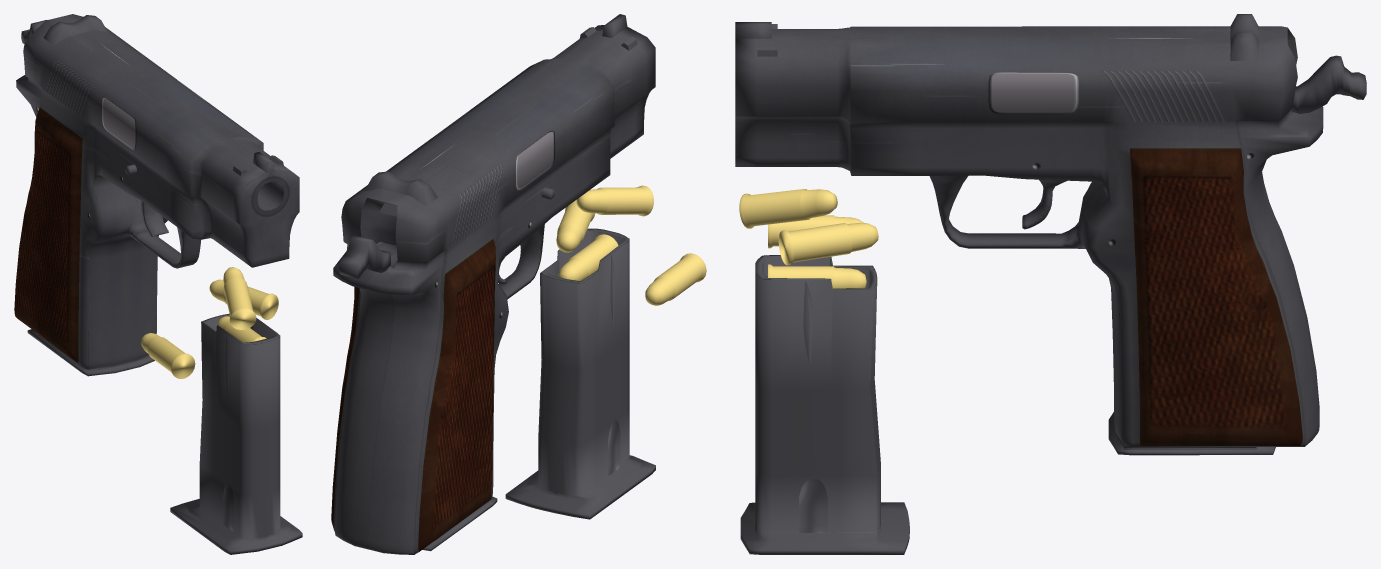
Rendered from GUNLP01.FBX.
3 renders of one model, left to right at view 1: azimuth 30°, elevation 25°; view 2: azimuth 150°, elevation 25°; view 3: azimuth 270°, elevation 25°, orthographic. The views are drawn at different scales.
Visible parts, largest first — view 1: Gun, Clip, Bullet08, Bullet01, Bullet07, Bullet; view 2: Gun, Clip, Bullet08, Bullet01, Bullet, Bullet07; view 3: Gun, Clip, Bullet07, Bullet08, Bullet, Bullet01.
Boxes of the visible parts, x1,y1,x2,y2 form: Gun: (14, 14, 299, 376); Clip: (170, 313, 302, 554); Bullet08: (223, 267, 256, 329); Bullet01: (141, 333, 195, 379); Bullet07: (209, 279, 278, 319); Bullet: (217, 316, 266, 342); Gun: (331, 14, 655, 554); Clip: (505, 228, 655, 519); Bullet08: (576, 185, 653, 216); Bullet01: (645, 253, 706, 305); Bullet: (558, 234, 618, 281); Bullet07: (556, 200, 595, 252); Gun: (735, 14, 1366, 455); Clip: (740, 255, 909, 554); Bullet07: (778, 222, 878, 265); Bullet08: (739, 189, 837, 228); Bullet: (768, 264, 866, 288); Bullet01: (768, 215, 863, 248).
Size of the model in its own units: 125 by 354 by 400.
